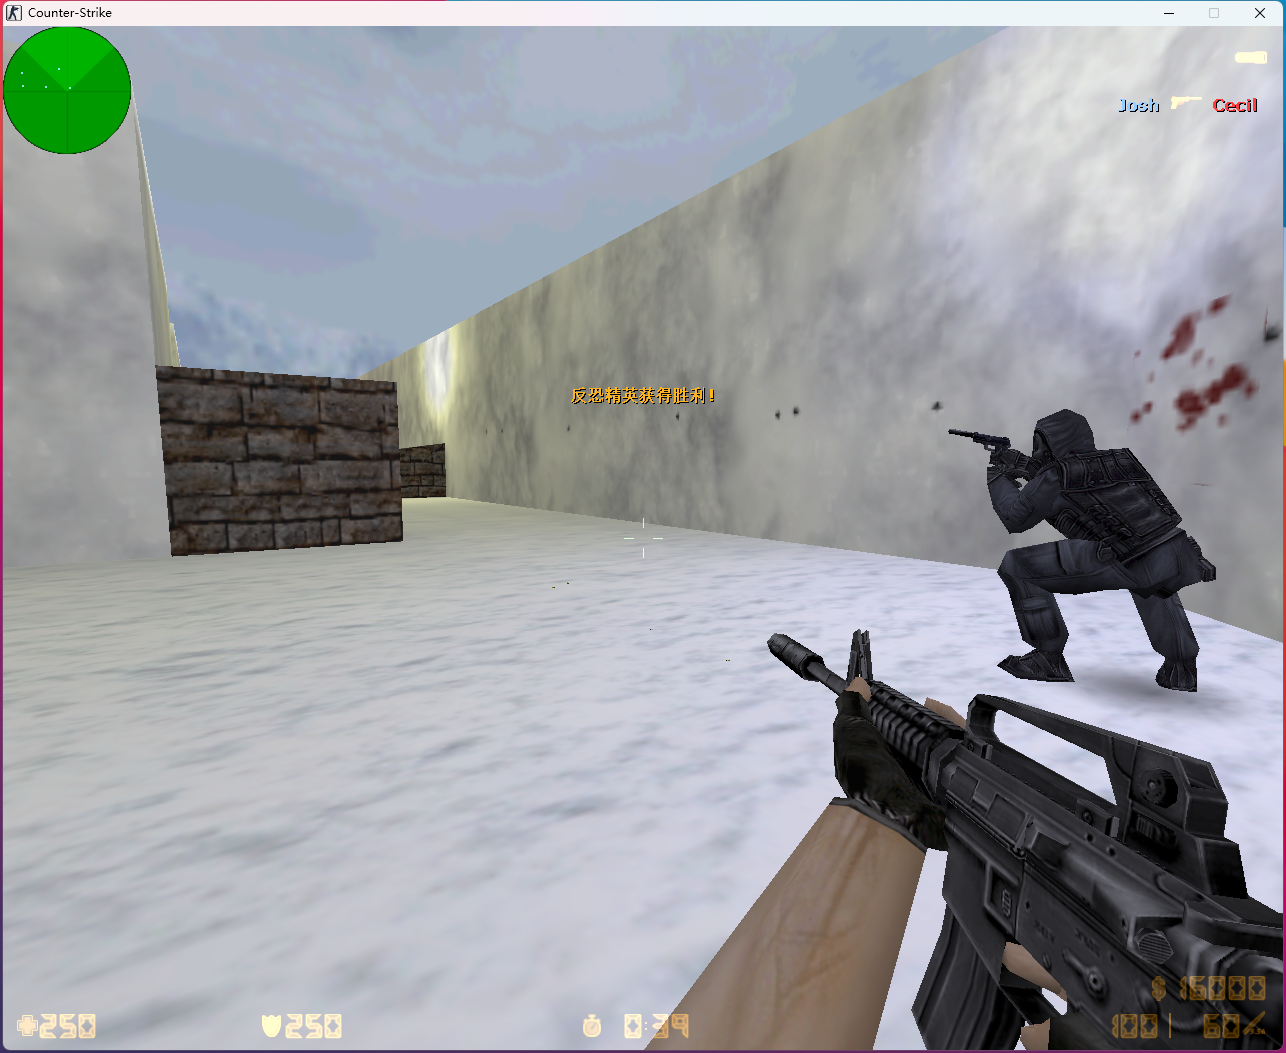C: (944, 400, 1220, 692)
